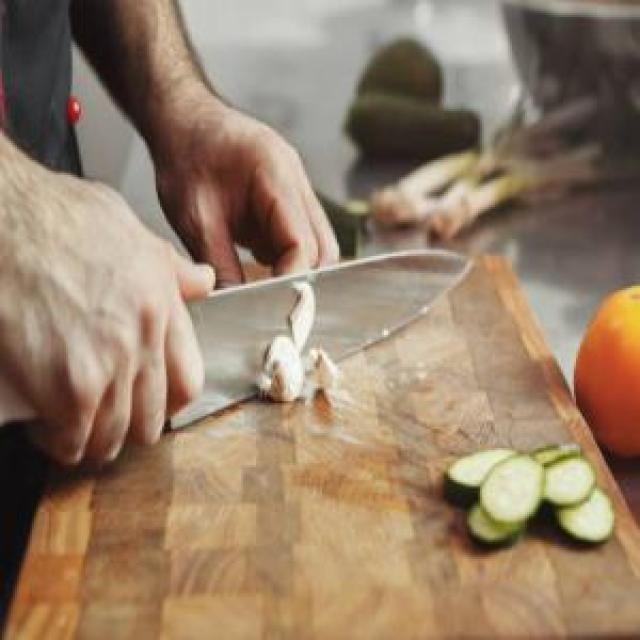knife: (0, 245, 484, 445)
